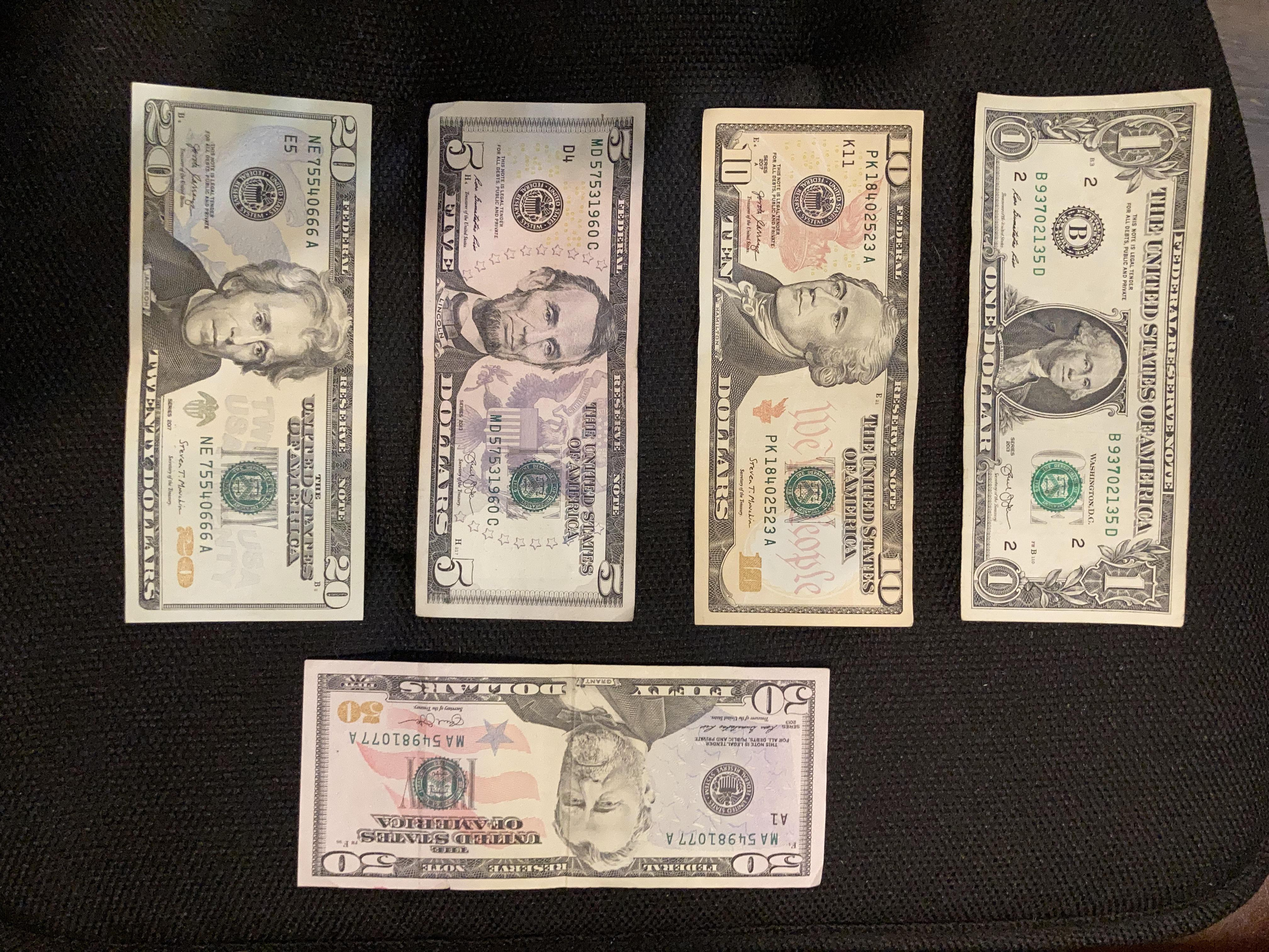fifty-front: (296, 660, 832, 890)
five-front: (413, 99, 650, 622)
one-front: (959, 87, 1213, 628)
ten-front: (691, 108, 928, 628)
twenty-front: (123, 82, 375, 624)
